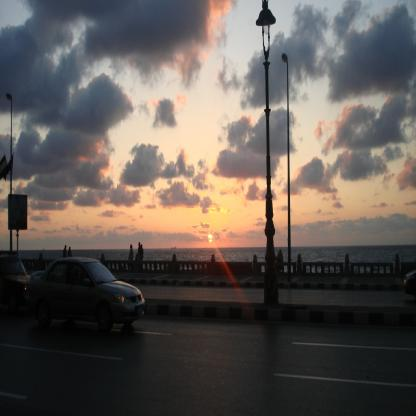Car: (25, 254, 146, 330), (1, 250, 33, 306)
